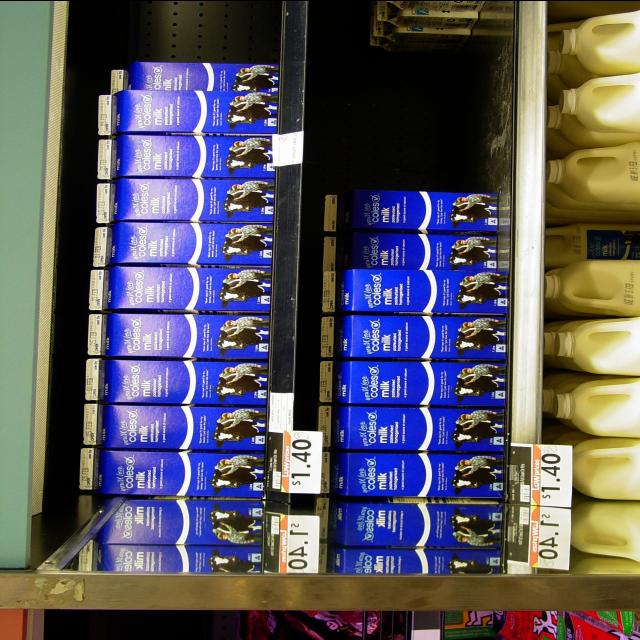empty_space: (322, 47, 488, 180), (109, 0, 271, 54)
